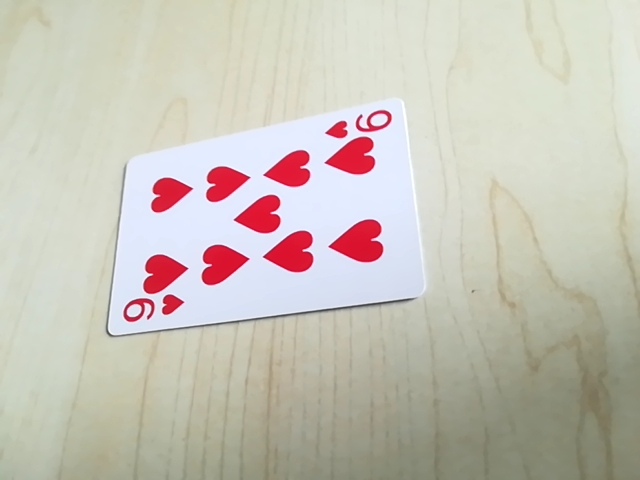hx 9: (323, 105, 399, 140), (117, 291, 184, 328)
